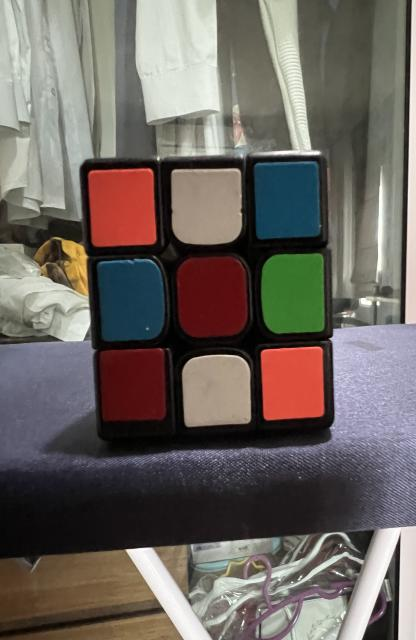Blue: (96, 259, 165, 341), (255, 161, 321, 240)
Green: (261, 254, 325, 334)
Orange: (88, 168, 157, 248), (261, 346, 325, 420)
Red: (177, 256, 248, 338), (99, 349, 166, 421)
White: (171, 168, 243, 245), (182, 355, 251, 428)
